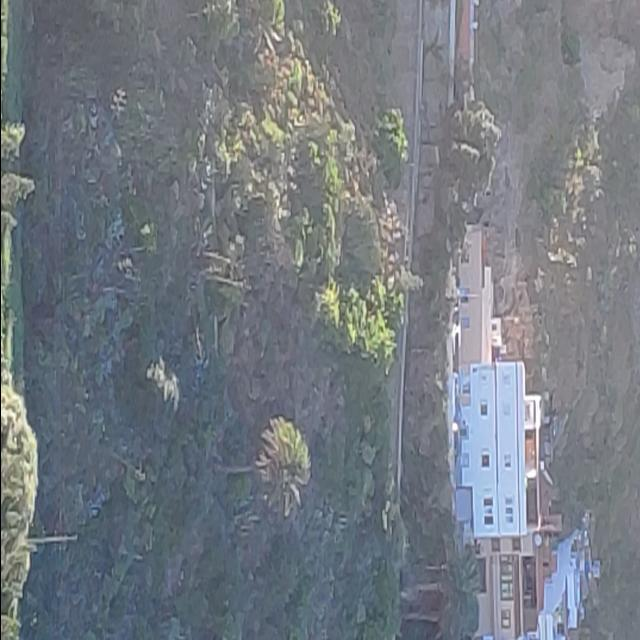Palm-Trees: (212, 413, 312, 519)
